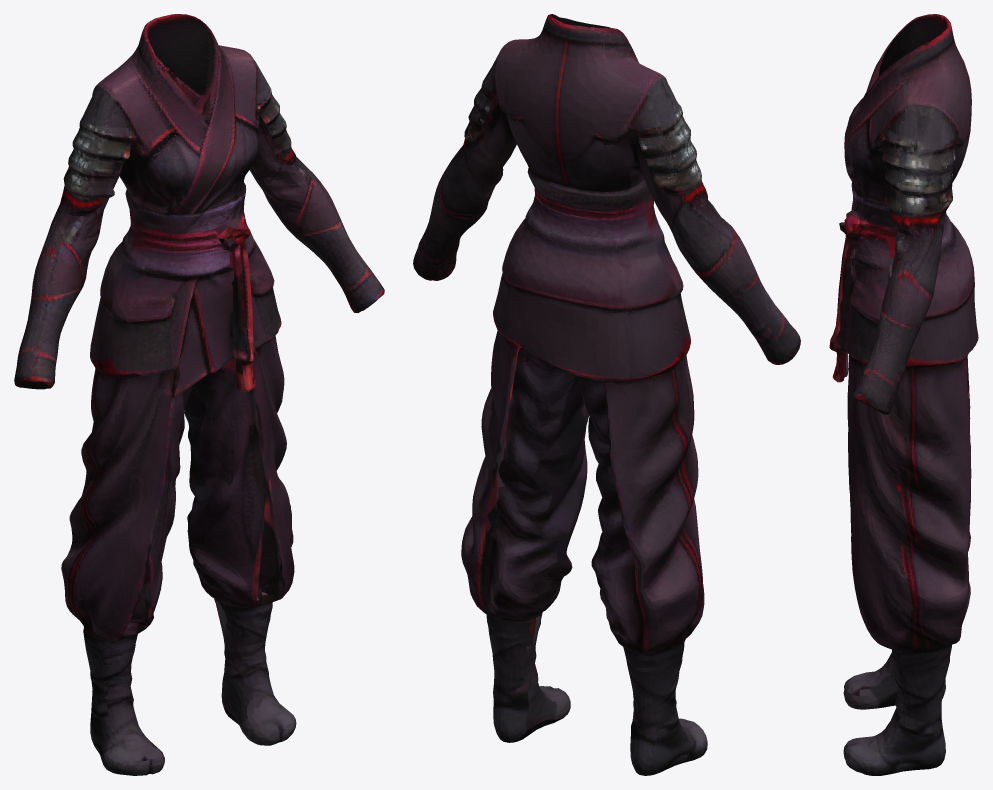
The model's file is mitsue_shinobi_source.glb.
3 renders of one model, left to right at view 1: azimuth 30°, elevation 25°; view 2: azimuth 150°, elevation 25°; view 3: azimuth 270°, elevation 25°, orthographic. The views are drawn at different scales.
Visible parts, largest first — view 1: temp_mesh.ply; view 2: temp_mesh.ply; view 3: temp_mesh.ply.
Boxes of the visible parts, <box> form: temp_mesh.ply: <box>14,14,384,775</box>; temp_mesh.ply: <box>413,14,800,775</box>; temp_mesh.ply: <box>829,14,978,775</box>.
Size of the model in its own units: 1.07 by 1.97 by 0.3762.
1 material, 1 textured.
